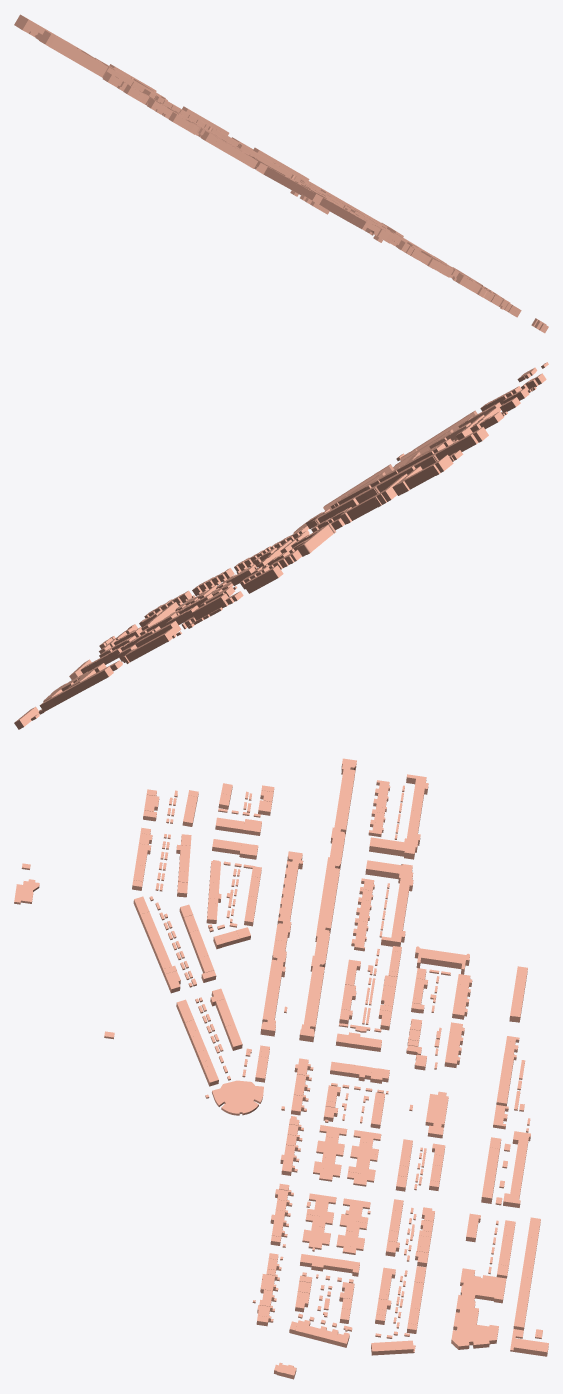
3 views of the same model, one above another, from view 1: azimuth 30°, elevation 25°; view 2: azimuth 150°, elevation 25°; view 3: azimuth 270°, elevation 25° (orthographic). The views are drawn at different scales.
Size of the model in its own units: 504 by 397 by 490.
